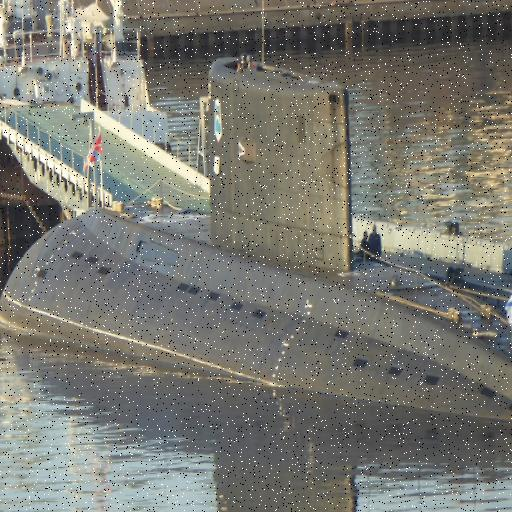submarine: (1, 53, 512, 438)
